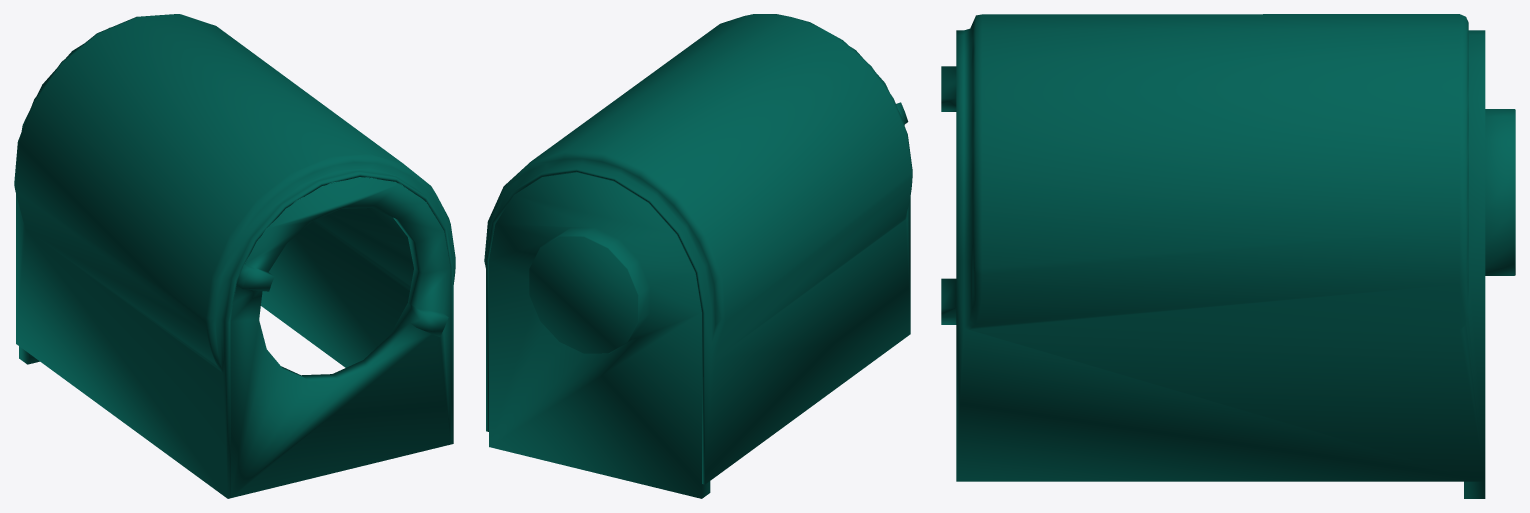
The model's file is 2h09010_arml_cla.obj.
3 views of the same model, side by side, from view 1: azimuth 30°, elevation 25°; view 2: azimuth 150°, elevation 25°; view 3: azimuth 270°, elevation 25° (orthographic). The views are drawn at different scales.
Size of the model in its own units: 0.118 by 0.146 by 0.189.
